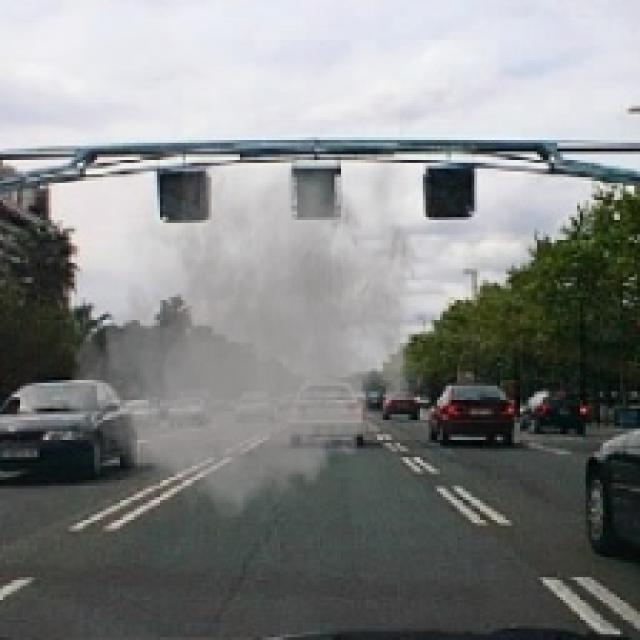smoke: (57, 128, 437, 532)
